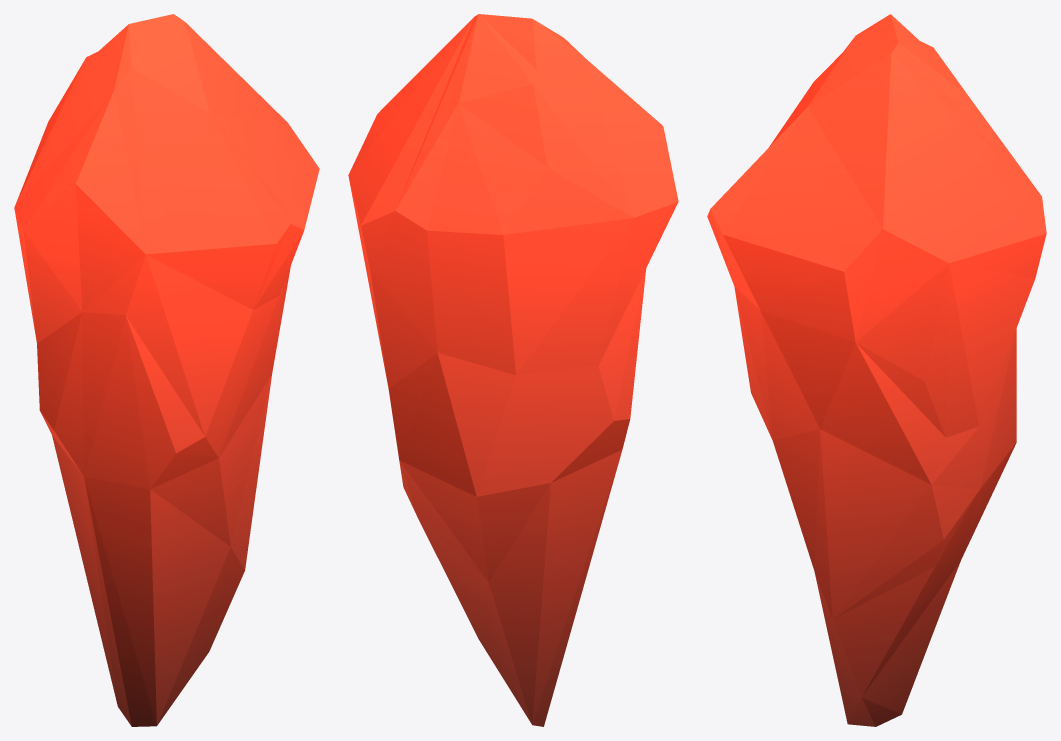
The model's file is crystal.gltf.
3 renders of one model, left to right at view 1: azimuth 30°, elevation 25°; view 2: azimuth 150°, elevation 25°; view 3: azimuth 270°, elevation 25°, orthographic. The views are drawn at different scales.
Parts seen in each view (by area): view 1: crystal; view 2: crystal; view 3: crystal.
Boxes of the visible parts, x1,y1,x2,y2 form: crystal: (14,14,319,726); crystal: (348,14,678,726); crystal: (707,14,1046,726).
Size of the model in its own units: 0.8733 by 1.99 by 0.8558.
Materials: 1 (1 with a texture image).
